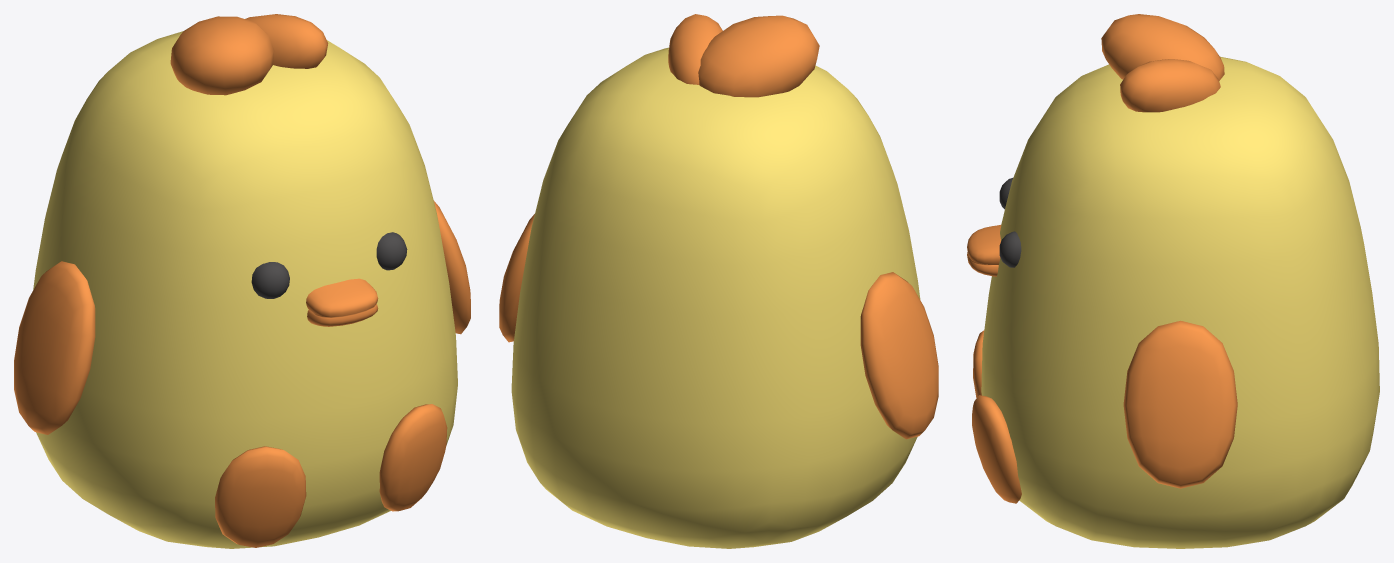
Rendered from Doll_Chick.glb.
3 views of the same model, side by side, from view 1: azimuth 30°, elevation 25°; view 2: azimuth 150°, elevation 25°; view 3: azimuth 270°, elevation 25° (orthographic). The views are drawn at different scales.
Parts seen in each view (by area): view 1: Chicken_Toy_1; view 2: Chicken_Toy_1; view 3: Chicken_Toy_1.
Part boxes in pixels (bbox=[...]): Chicken_Toy_1: bbox=[14, 14, 470, 548]; Chicken_Toy_1: bbox=[499, 14, 938, 548]; Chicken_Toy_1: bbox=[967, 14, 1379, 548].
Bounding box in the file's own units: 0.4694 × 0.5137 × 0.4098.
1 material, 1 textured.
